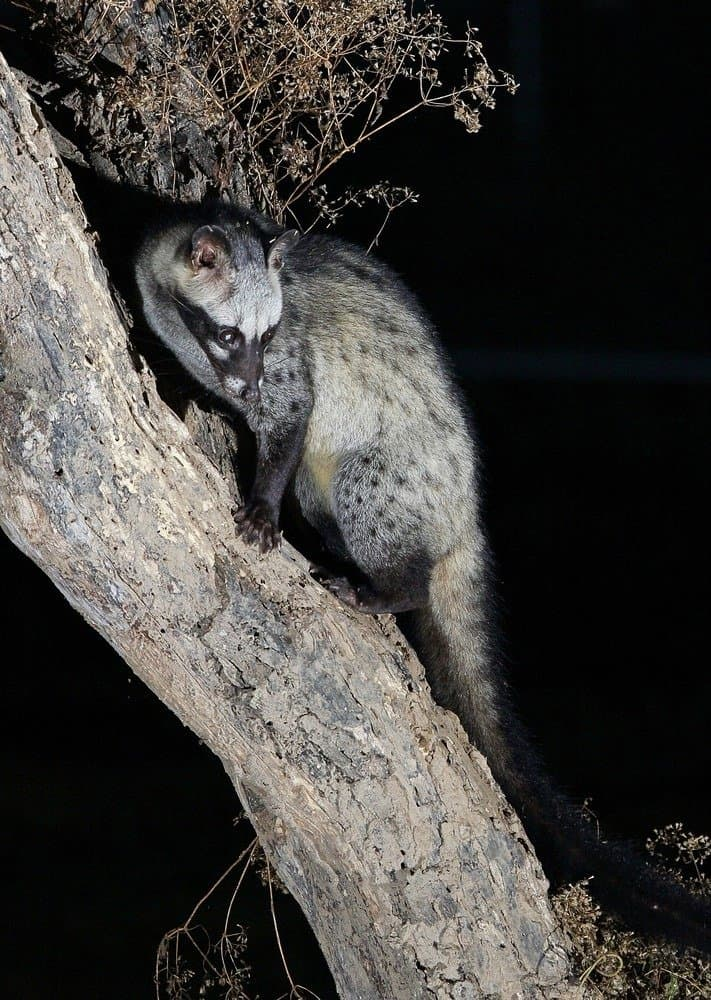Civet: (112, 198, 536, 784)
